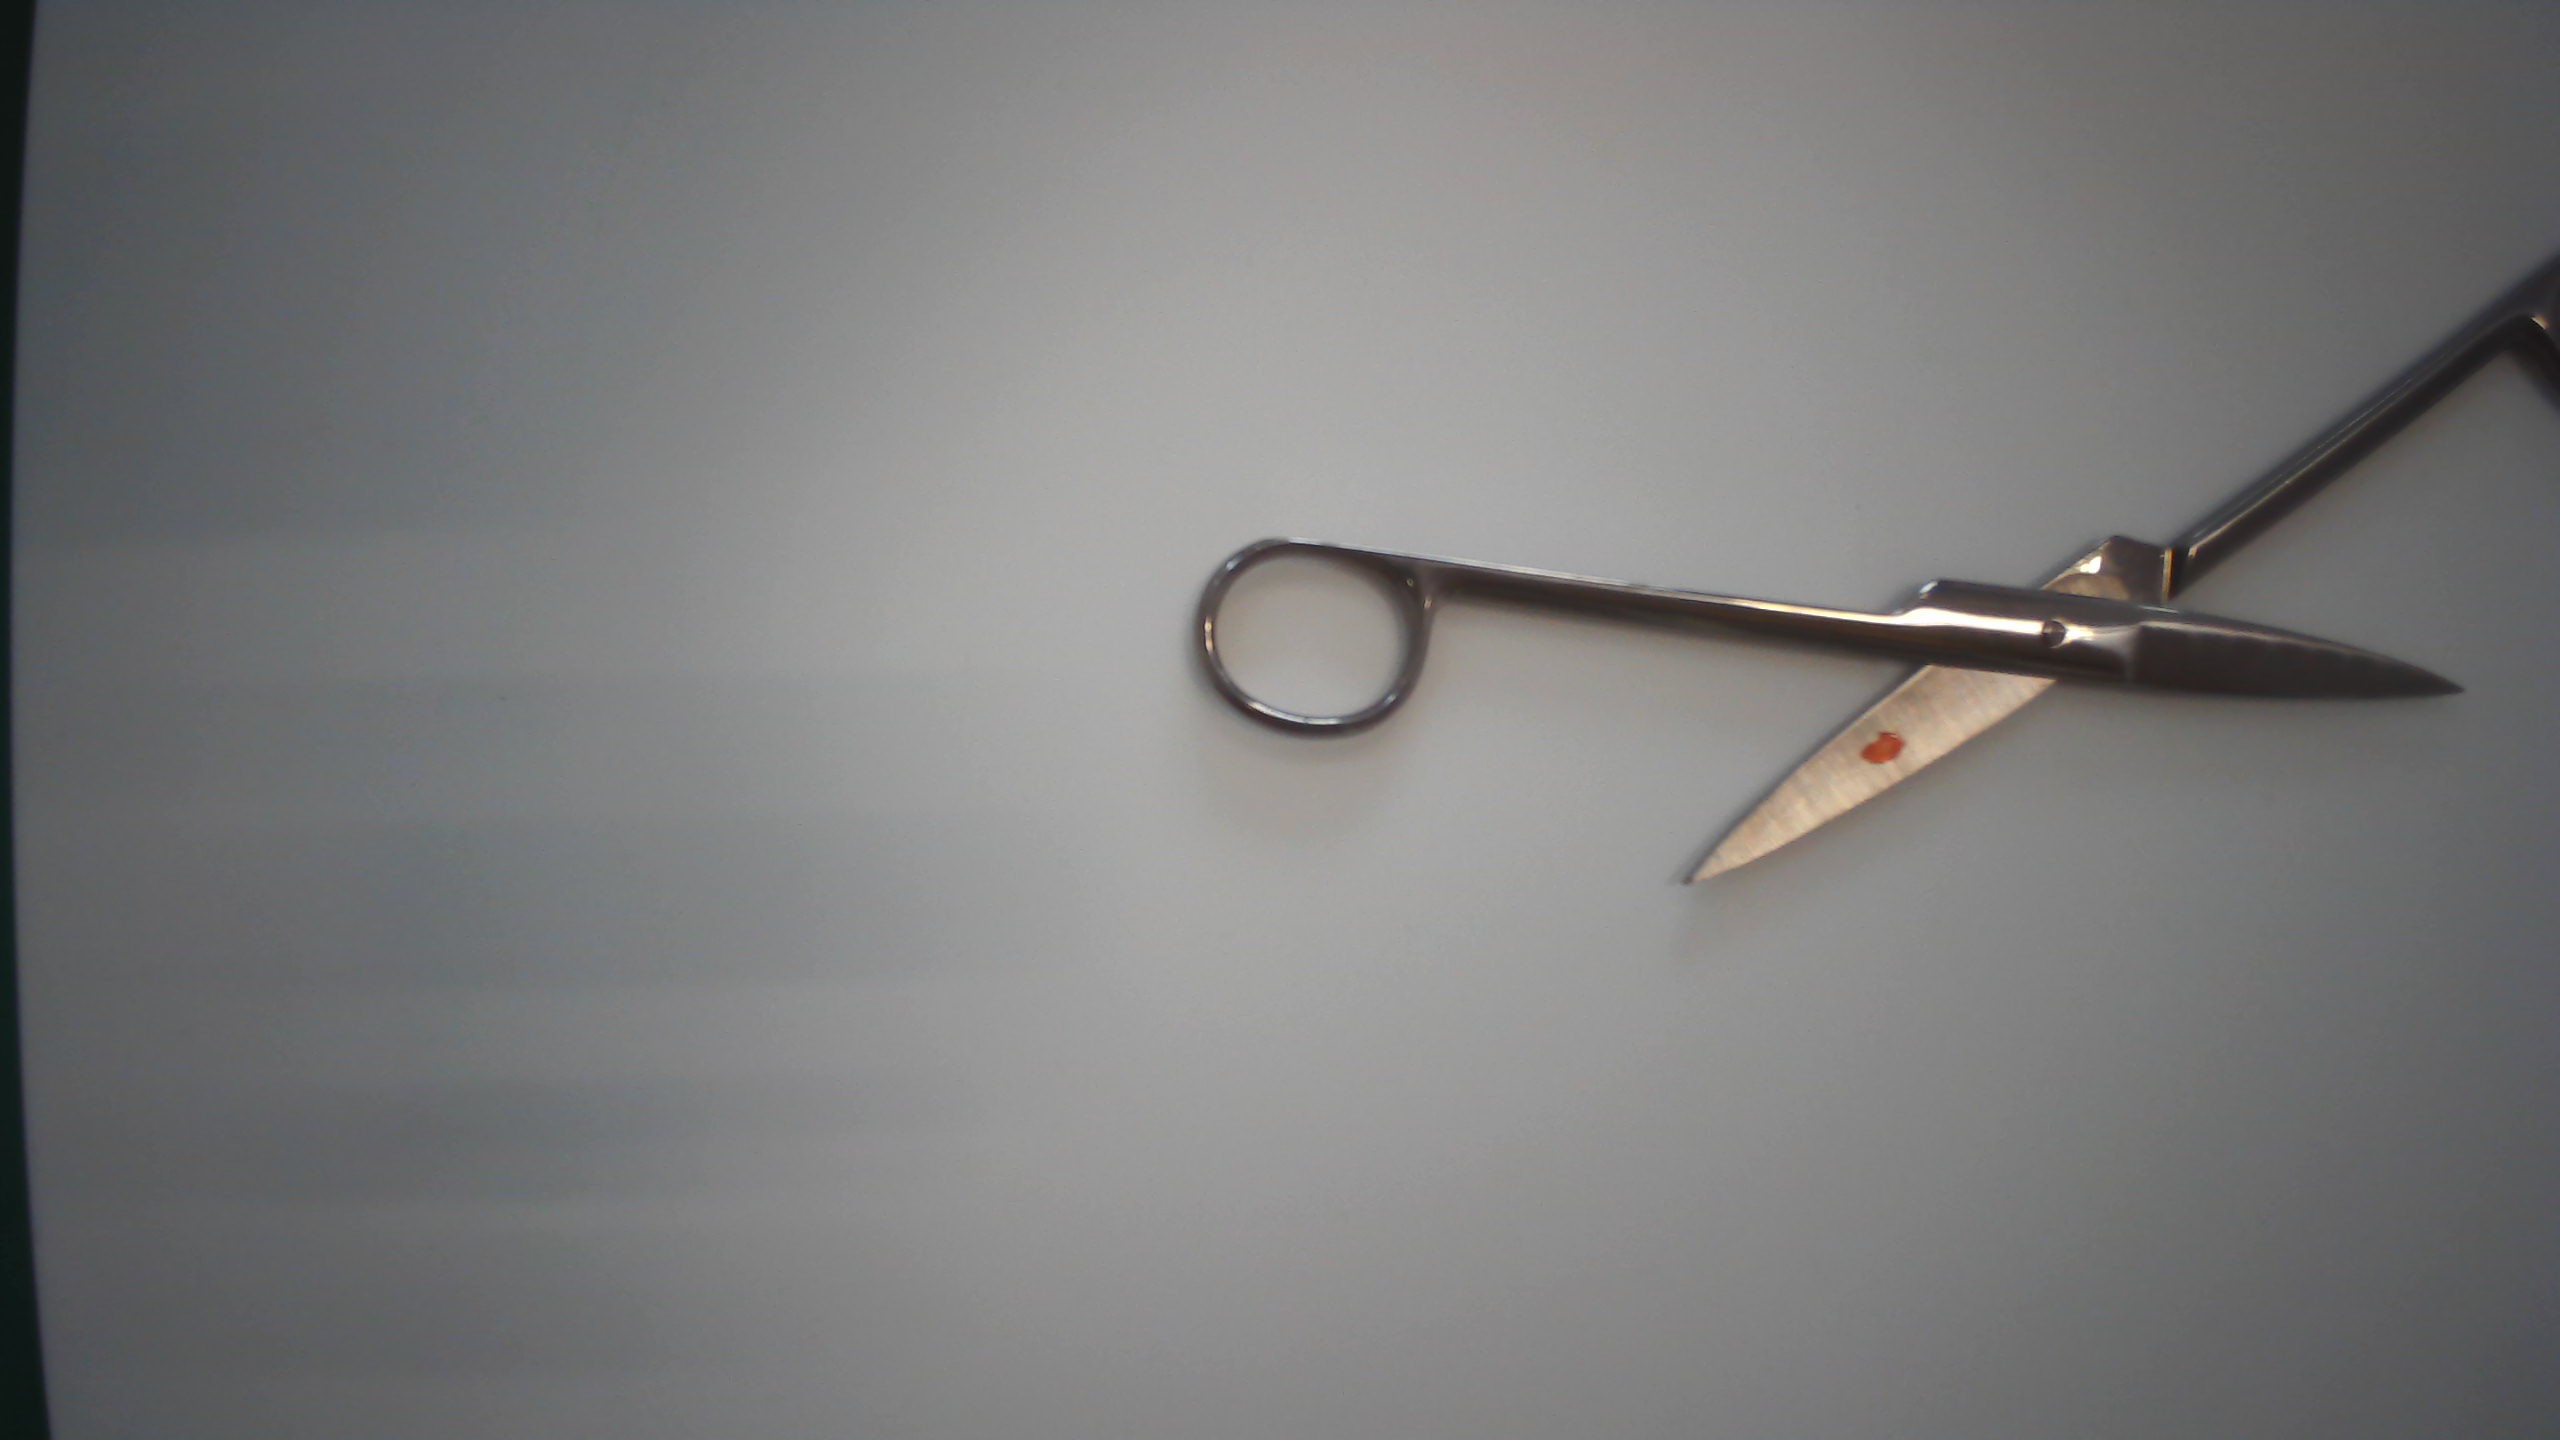Stain: (1848, 724, 1924, 772)
